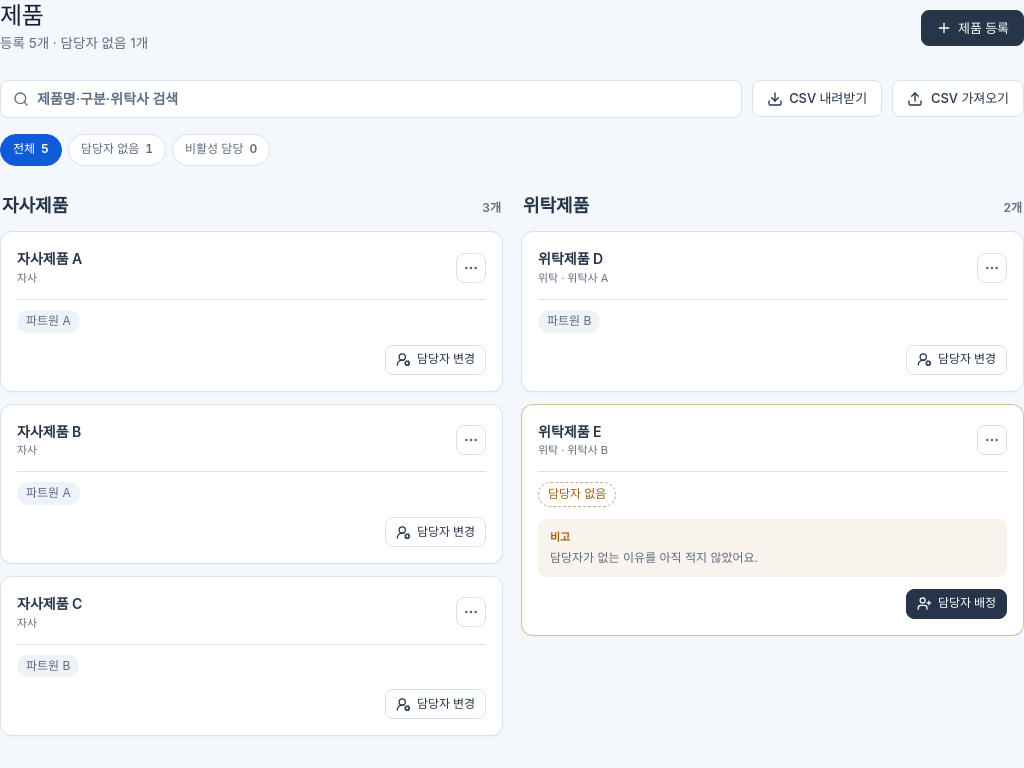
Test case: ProductMasterPanel › blocks saving a product edit until a non-blank reason is entered, then applies the change
Click the button named "자사제품 A 더보기" at (471, 268), box [456, 253, 486, 283]
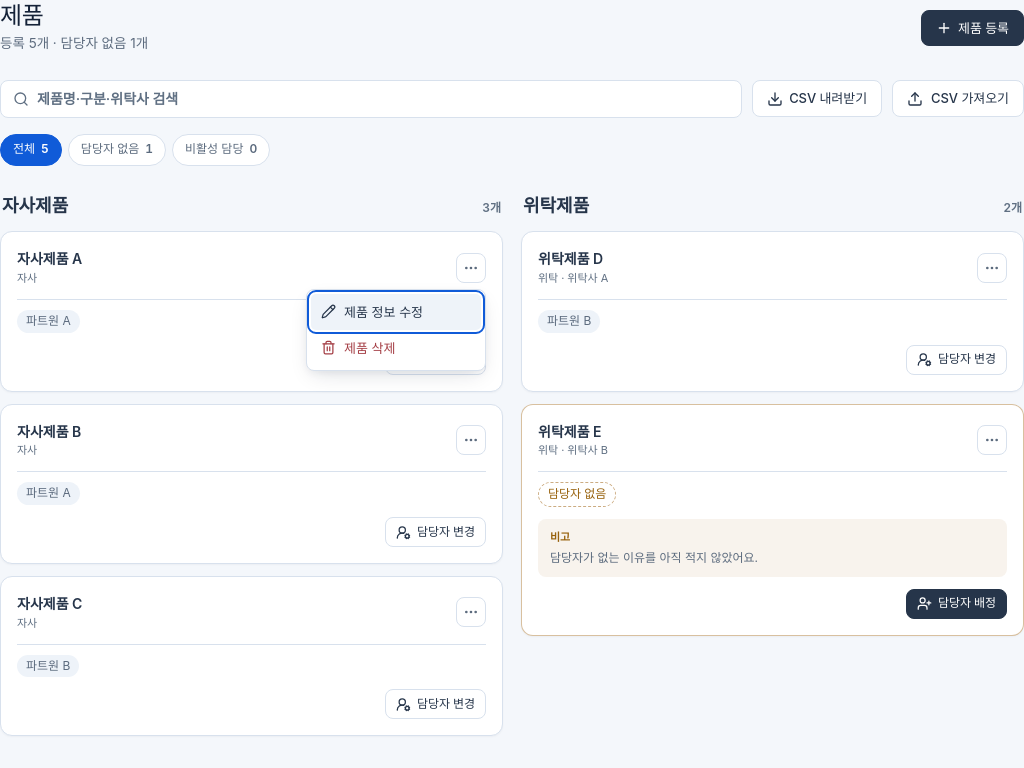
Click the menu item "제품 정보 수정" at (396, 312), box [311, 294, 481, 330]
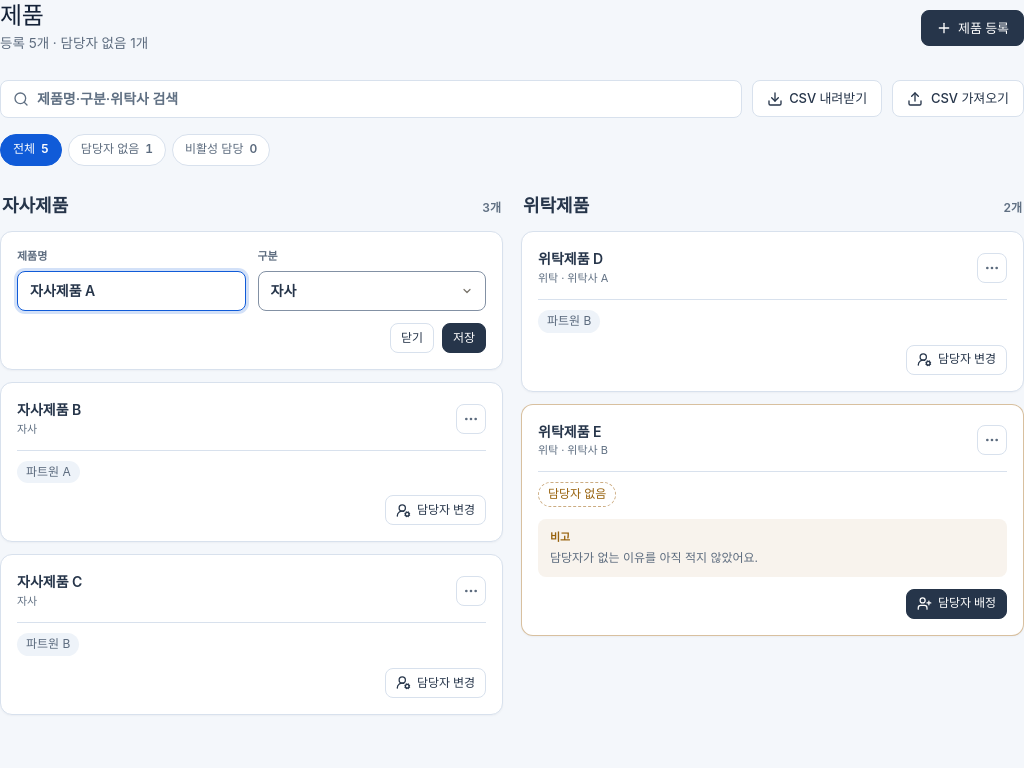
Replace the text in the field showing "자사제품 A" with "Renamed by leader" at (131, 291), box [17, 272, 246, 311]
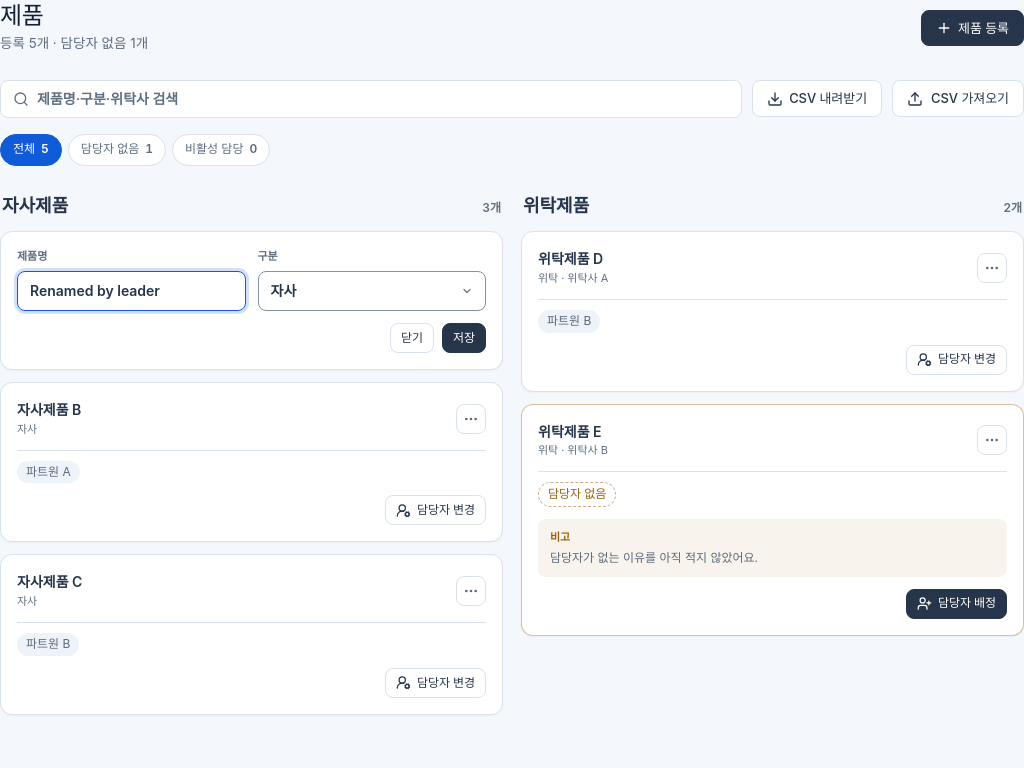
Click the button "저장" at (464, 338), box [442, 323, 486, 353]
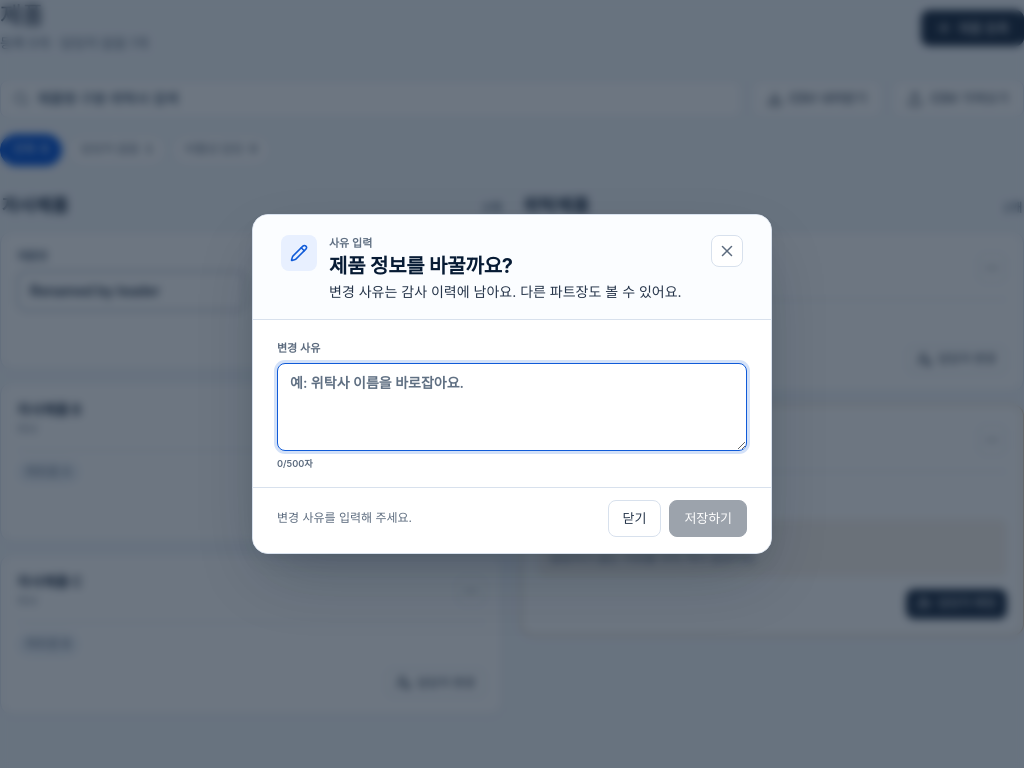
Expected: the button "저장하기" is disabled, [669, 500, 747, 536]
Type "가격 정책 변경에 따른 정보 수정" into the text box at (512, 407), box [277, 363, 747, 451]
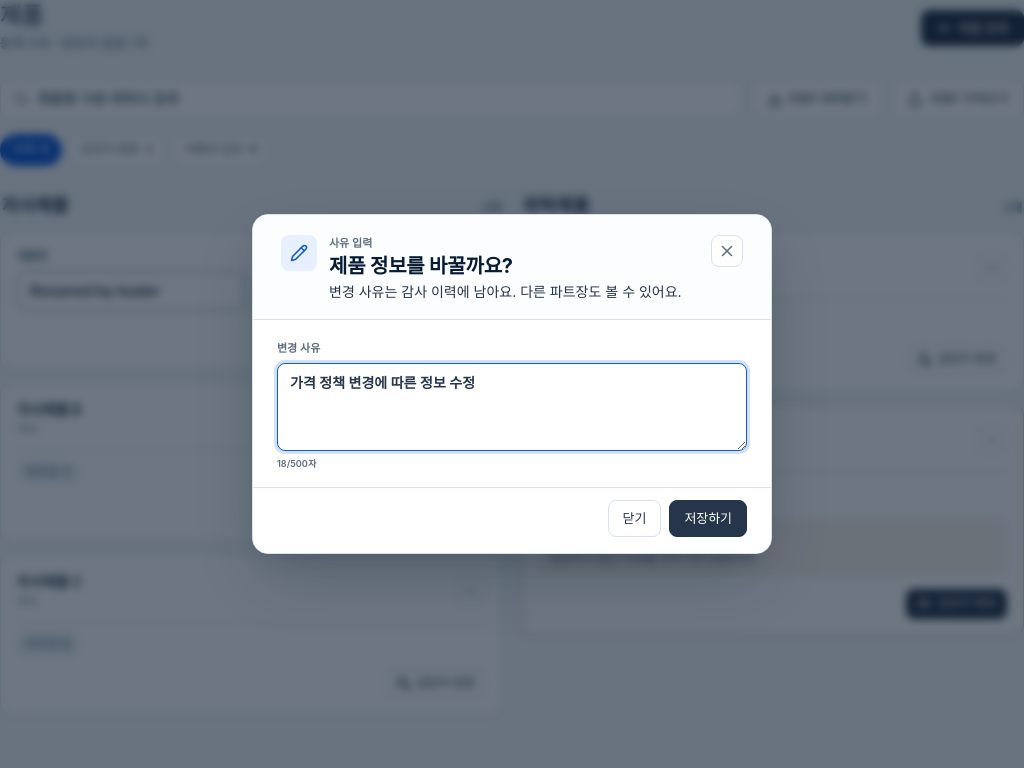
Expected: the button "저장하기" is enabled
Click the button "저장하기" at (708, 518), box [669, 500, 747, 536]
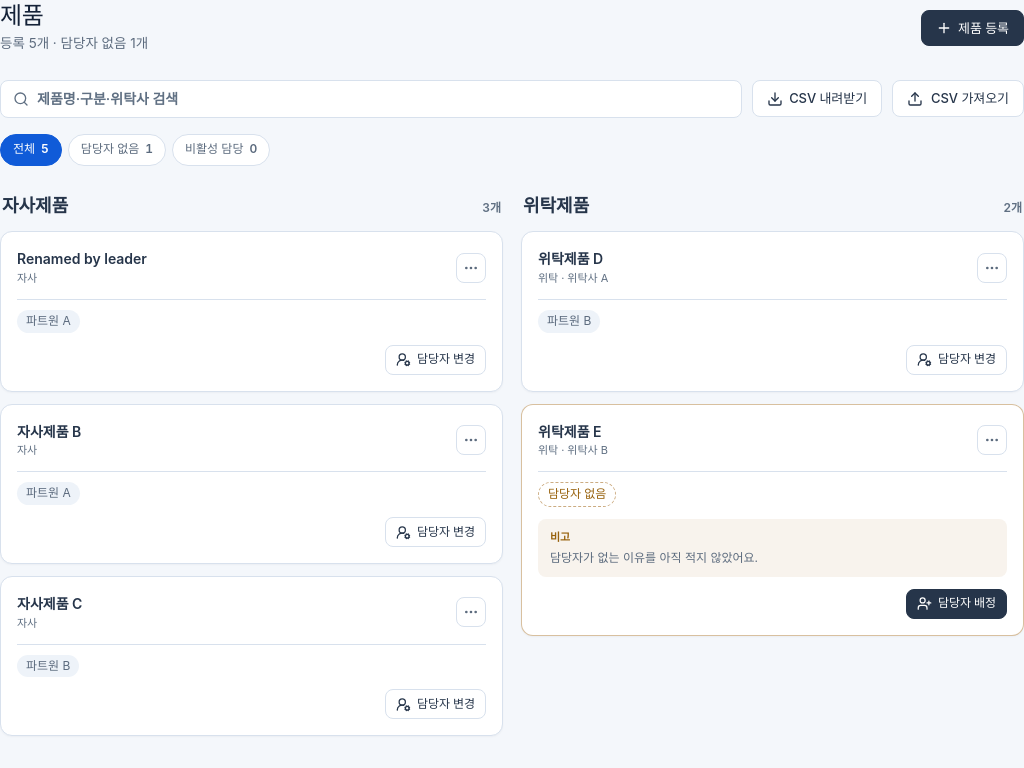
Expected: the heading "Renamed by leader" is shown, [17, 250, 147, 267]
Expected: the heading "제품 정보를 바꿀까요?" is gone
